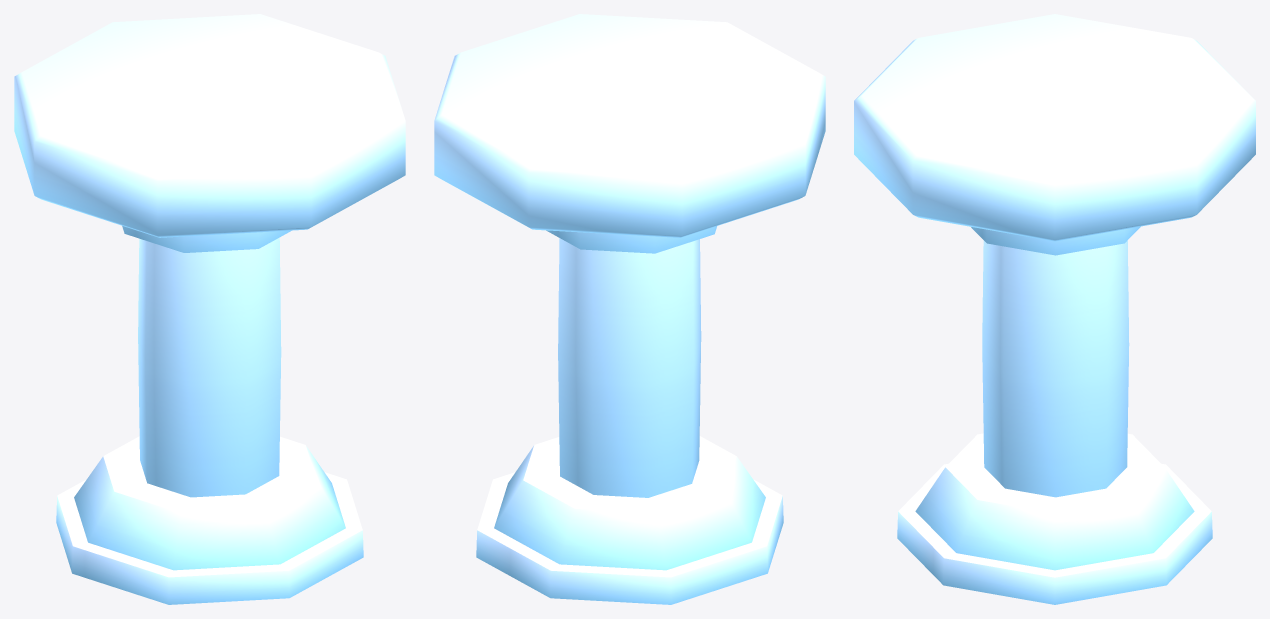
File: steel_grip_041.glb
3 renders of one model, left to right at view 1: azimuth 30°, elevation 25°; view 2: azimuth 150°, elevation 25°; view 3: azimuth 270°, elevation 25°, orthographic.
Visible parts, largest first — view 1: steel_grip_041; view 2: steel_grip_041; view 3: steel_grip_041.
Boxes of the visible parts, x1,y1,x2,y2 form: steel_grip_041: (14,14,405,604); steel_grip_041: (434,14,825,604); steel_grip_041: (854,14,1255,604).
Size of the model in its own units: 2.72 by 3.31 by 2.72.
Materials: 1 (1 with a texture image).
